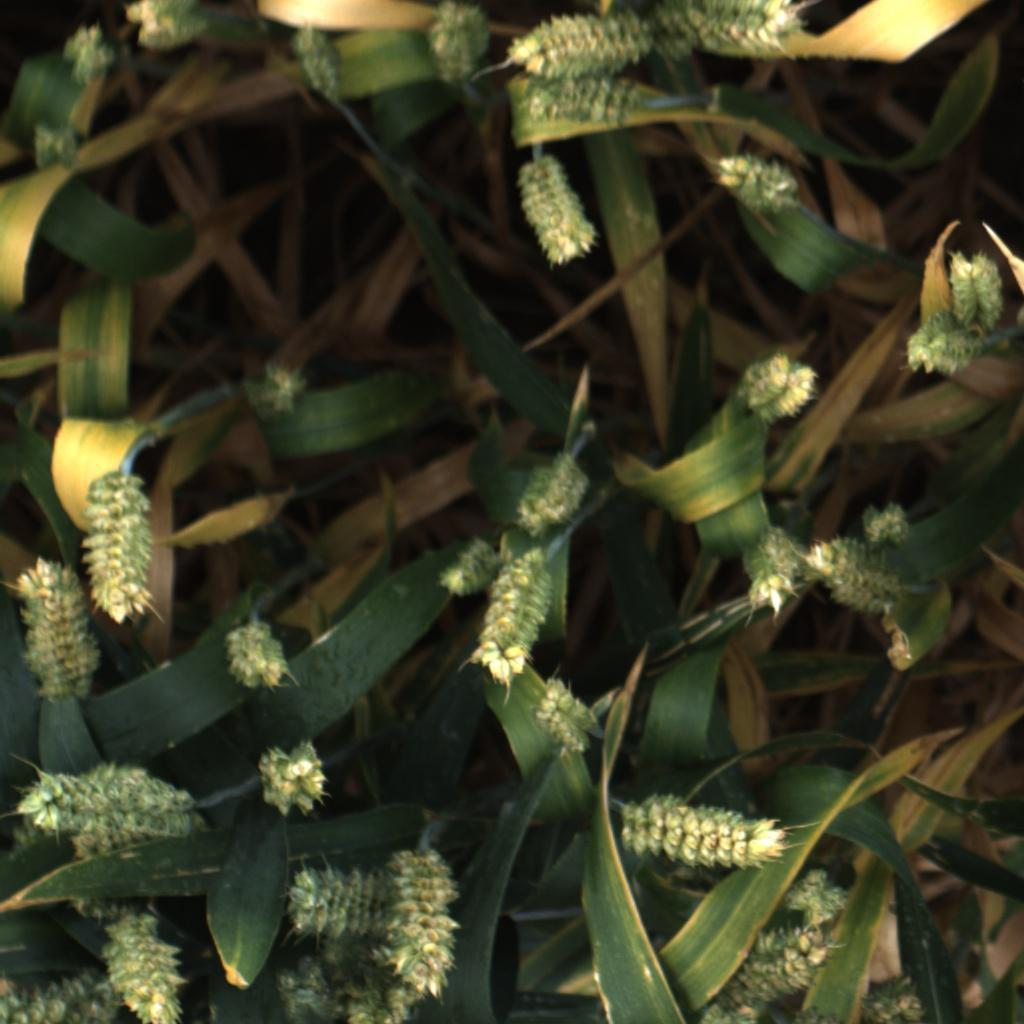0-0: (623, 789, 794, 874), (23, 760, 201, 840), (18, 550, 111, 699), (704, 924, 836, 1024), (381, 844, 464, 1000), (266, 921, 388, 1023), (79, 466, 157, 623), (472, 549, 557, 685), (501, 5, 651, 81), (511, 152, 603, 268), (50, 836, 178, 918), (104, 906, 189, 1024), (646, 0, 805, 59), (274, 855, 376, 940), (803, 528, 900, 613), (725, 345, 824, 428), (732, 516, 809, 621), (519, 69, 637, 135), (529, 666, 607, 762), (505, 452, 587, 538), (706, 146, 802, 219), (411, 0, 490, 88), (255, 736, 334, 824), (284, 12, 352, 105), (938, 240, 1005, 332), (219, 621, 297, 696), (900, 320, 982, 385), (3, 978, 116, 1024), (784, 853, 853, 927), (58, 18, 120, 93), (429, 535, 497, 602), (127, 0, 206, 53), (21, 114, 88, 175), (853, 496, 917, 557), (252, 356, 312, 421), (856, 968, 925, 1024), (339, 974, 412, 1024)
